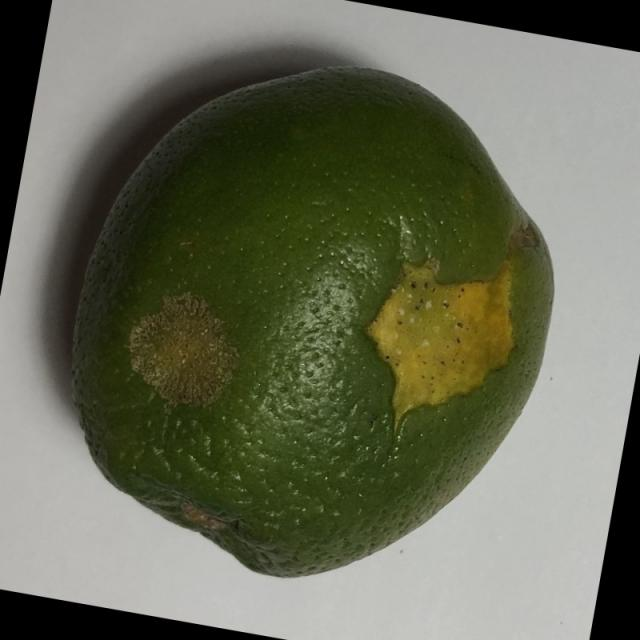canker: (46, 52, 580, 603)
